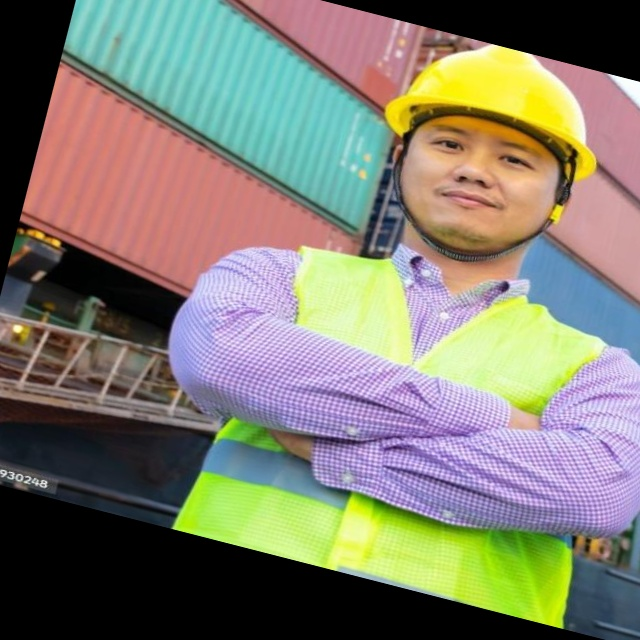Con_Casco: (347, 21, 617, 284)
Con_Chaleco: (181, 216, 640, 630)
